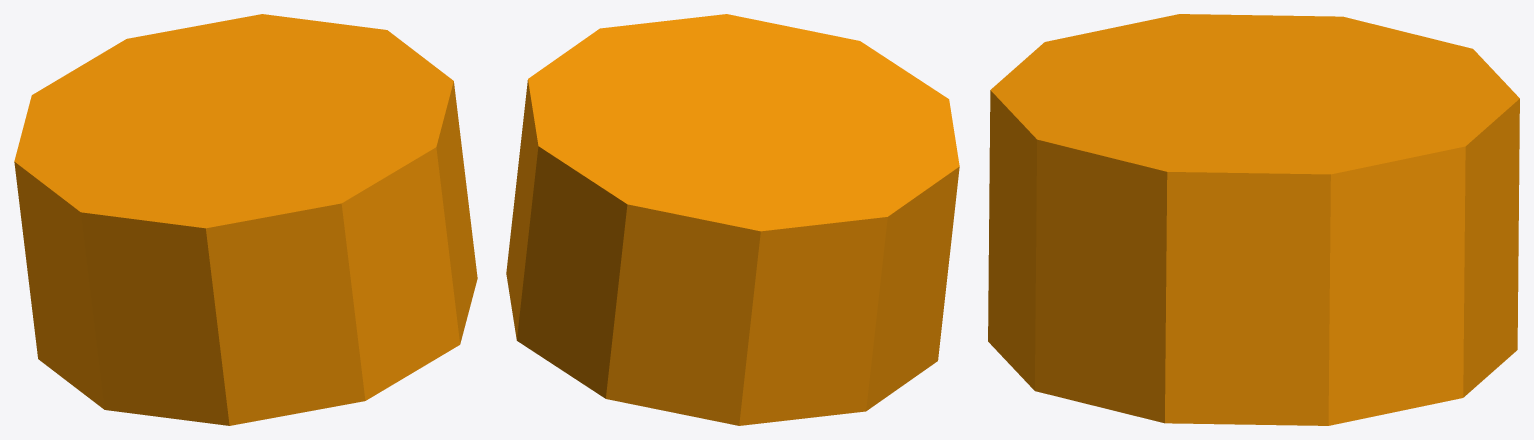
The model's file is group1049340673_lev3.002.glb.
3 renders of one model, left to right at view 1: azimuth 30°, elevation 25°; view 2: azimuth 150°, elevation 25°; view 3: azimuth 270°, elevation 25°, orthographic. The views are drawn at different scales.
Visible parts, largest first — view 1: group1049340673_lev3.002; view 2: group1049340673_lev3.002; view 3: group1049340673_lev3.002.
Part boxes in pixels (x1=…): group1049340673_lev3.002: x1=14, y1=14, x2=477, y2=425; group1049340673_lev3.002: x1=506, y1=14, x2=959, y2=425; group1049340673_lev3.002: x1=988, y1=14, x2=1519, y2=425.
Size of the model in its own units: 0.5553 by 0.3351 by 0.5517.
